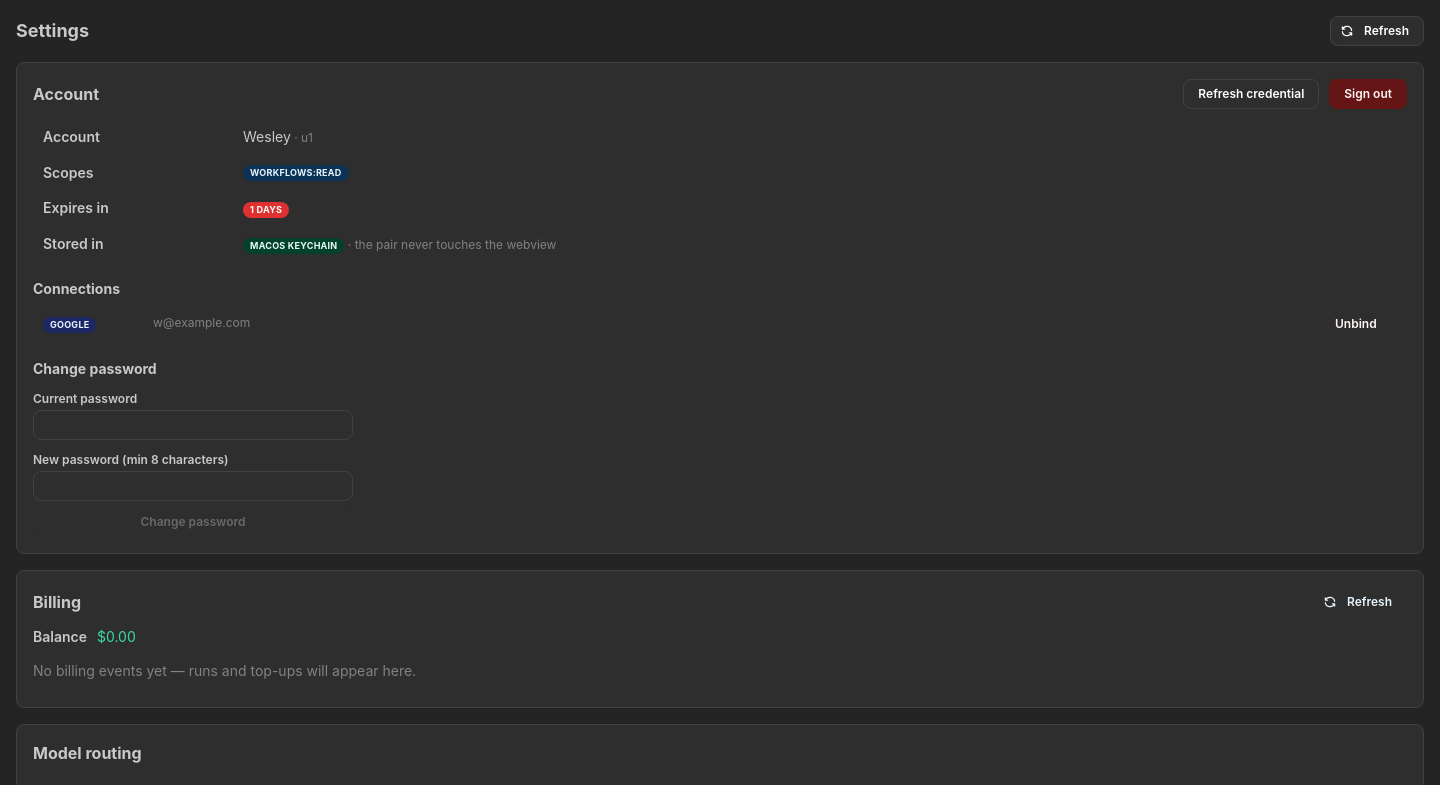
Test: SettingsPage profile face (#99) › unbind refreshes the connections list
What coordinates should you click on to do the following:
click the button with test id "unbind-google"
I would click on:
 (1356, 324)
Its box is [1327, 313, 1385, 335].
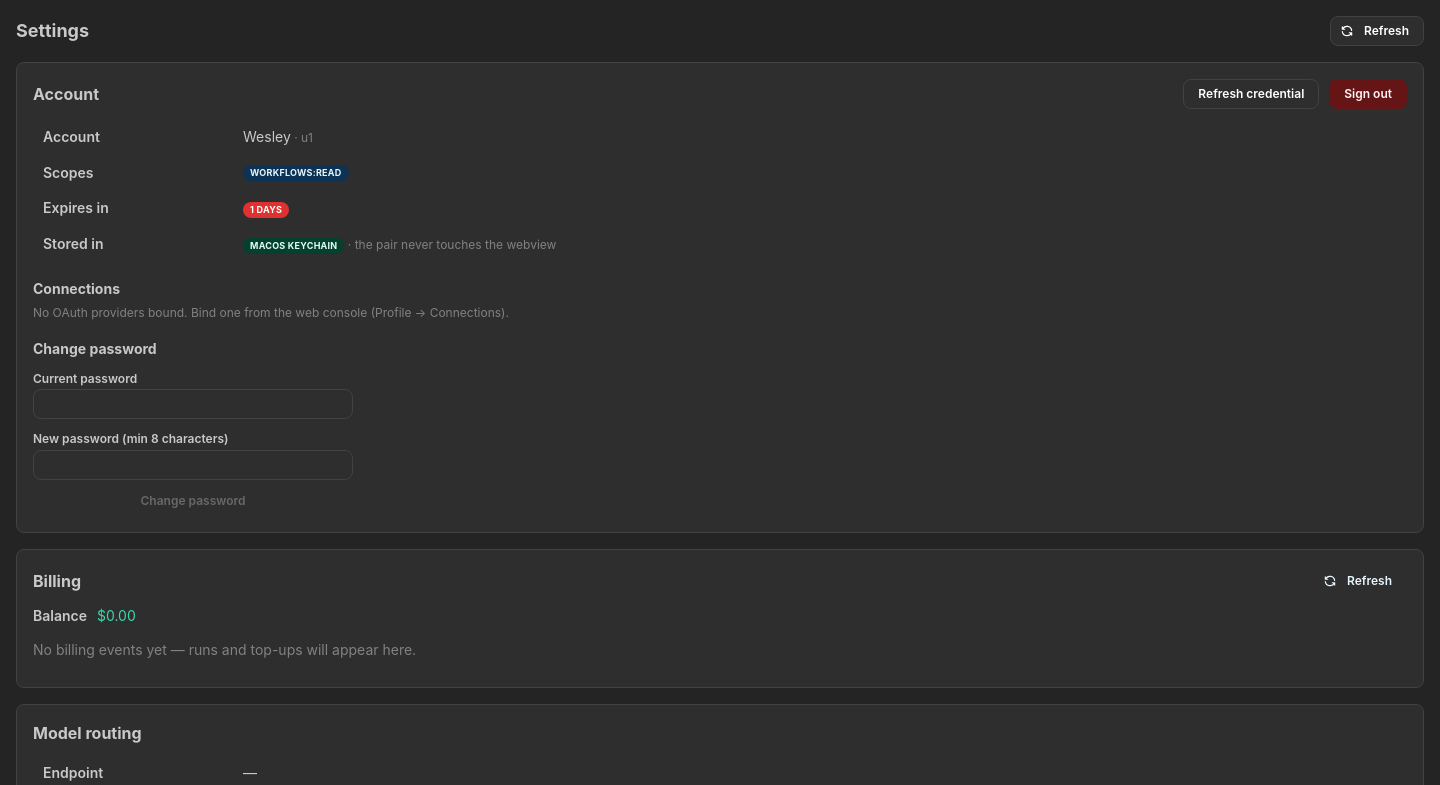
Result: the text "No OAuth providers bound" is shown at [33, 305, 509, 320]
